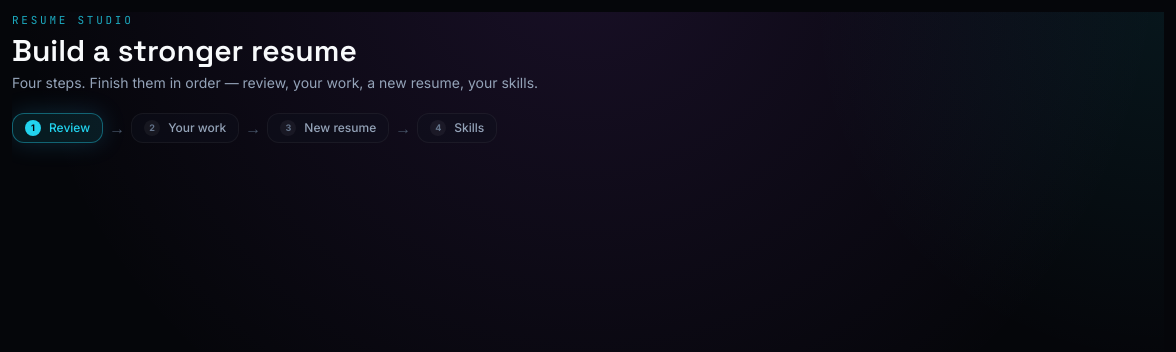
Test case: ResumePage › navigates to the work tab and lists projects
Click the button "2 Your work" at (185,128), box [131,112,239,142]
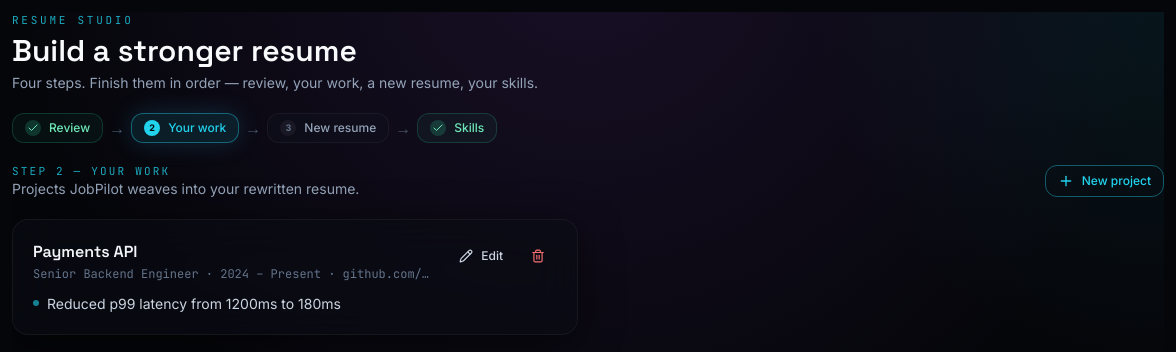
Check: the heading "Payments API" is shown, box [33,241,138,262]
Check: the list item "Reduced p99 latency from 1200ms to 180ms" is shown, box [33,295,341,312]
